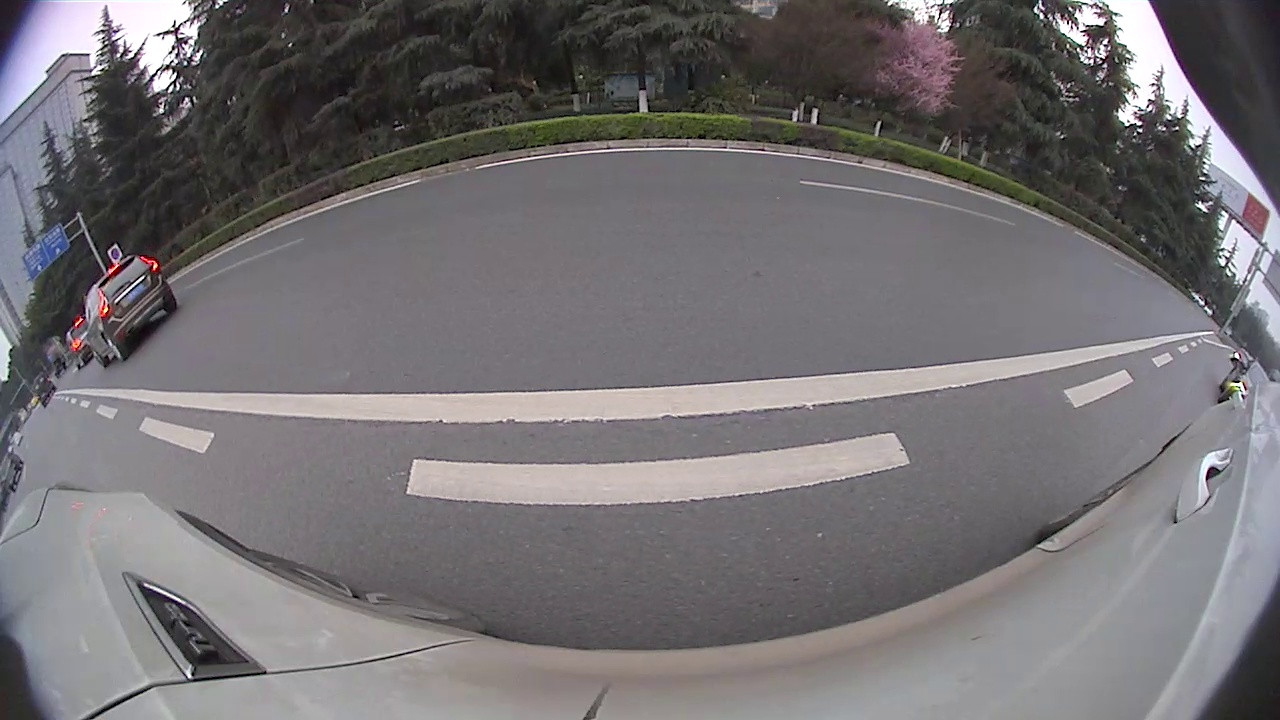bus: (761, 0, 1279, 436)
car: (554, 104, 778, 261), (331, 154, 512, 253), (1, 339, 90, 493), (532, 160, 559, 196)
front: (776, 177, 798, 224), (499, 187, 510, 218)
rear: (1002, 247, 1103, 362), (440, 202, 461, 240)
